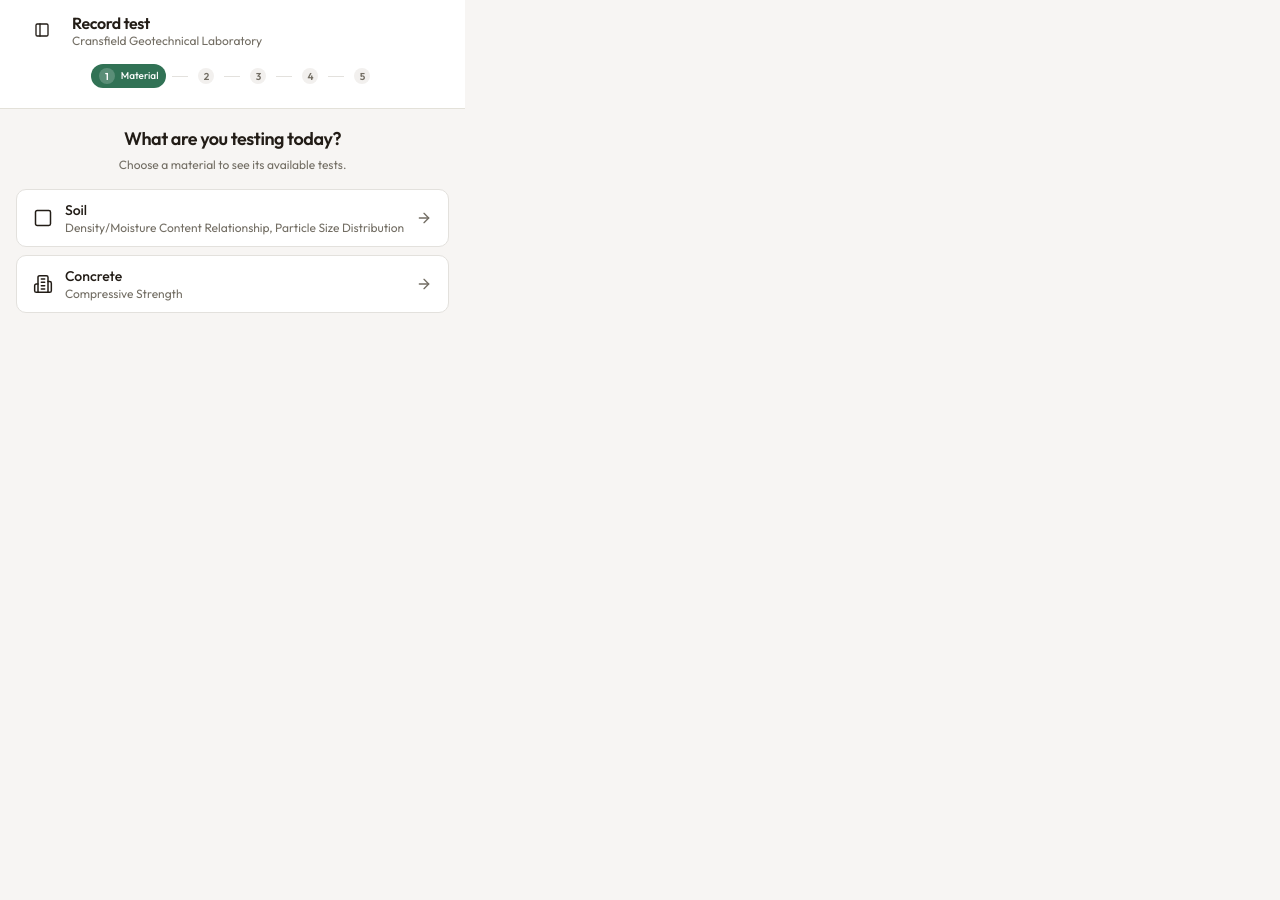
Test case: RecordTestWizard selection flow › shows materials without bottom navigation and opens the selected material's tests
This screenshot has width=1280, height=900.
expect the heading "What are you testing today?" is shown: met, box [124, 127, 341, 150]
Click the button "Soil".
click(233, 218)  # box [16, 189, 449, 247]
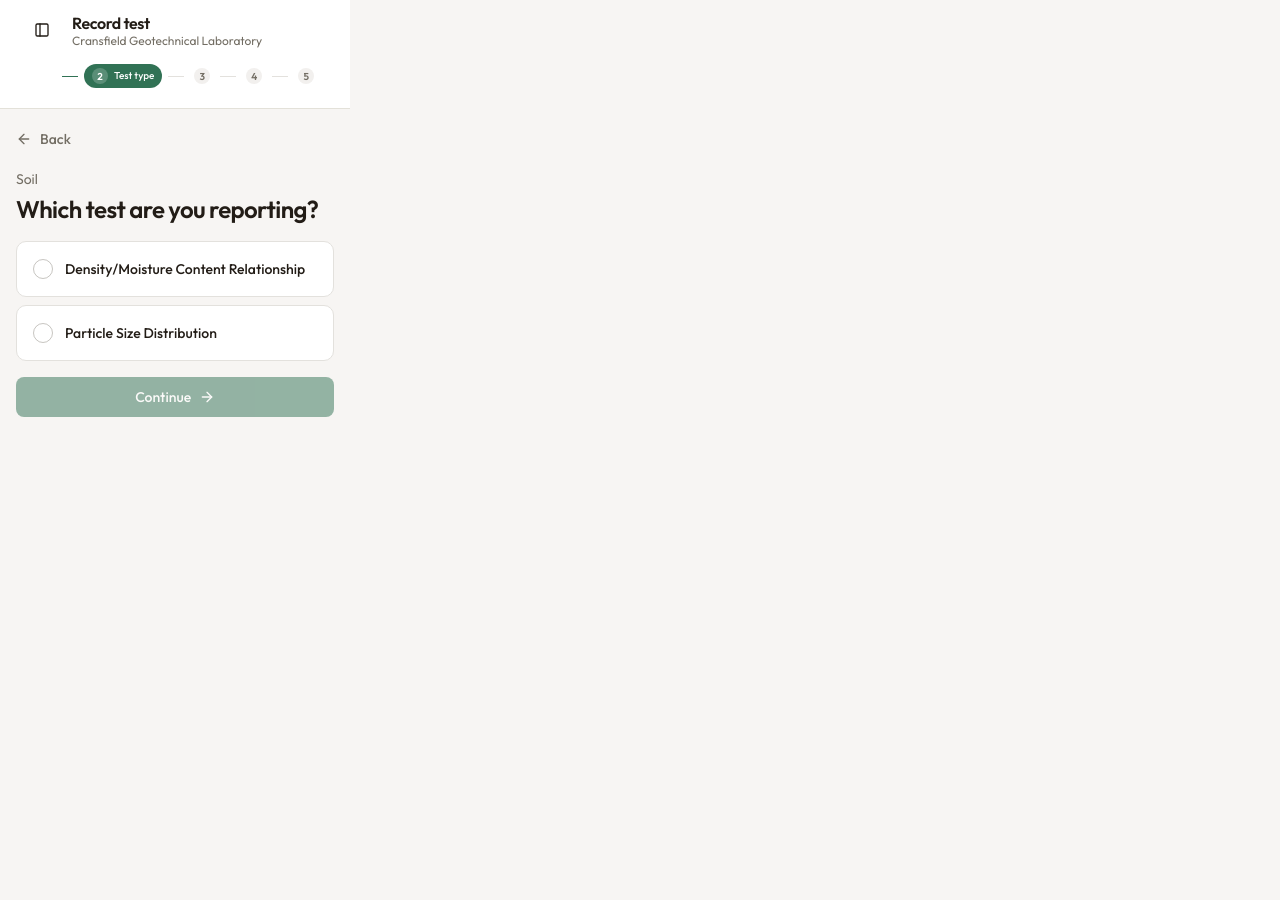
expect the text "Soil" is shown: met, box [16, 170, 38, 188]
expect the heading "Which test are you reporting?" is shown: met, box [16, 193, 334, 225]
Click the button "Back".
click(43, 139)  # box [8, 125, 79, 153]
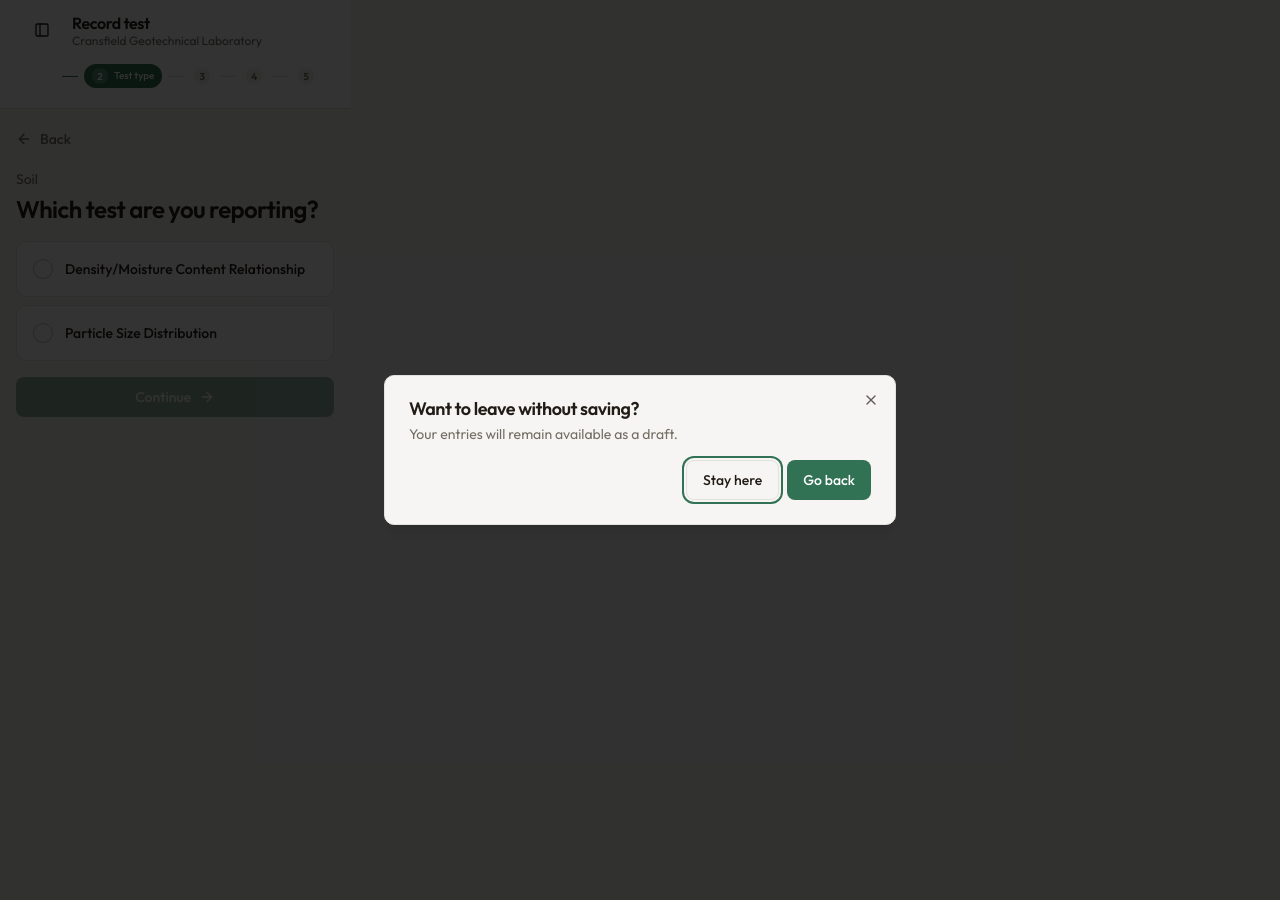
expect the dialog shows "Want to leave without saving?": met, box [409, 397, 639, 420]
Click the button "Go back".
click(829, 480)  # box [787, 460, 871, 500]
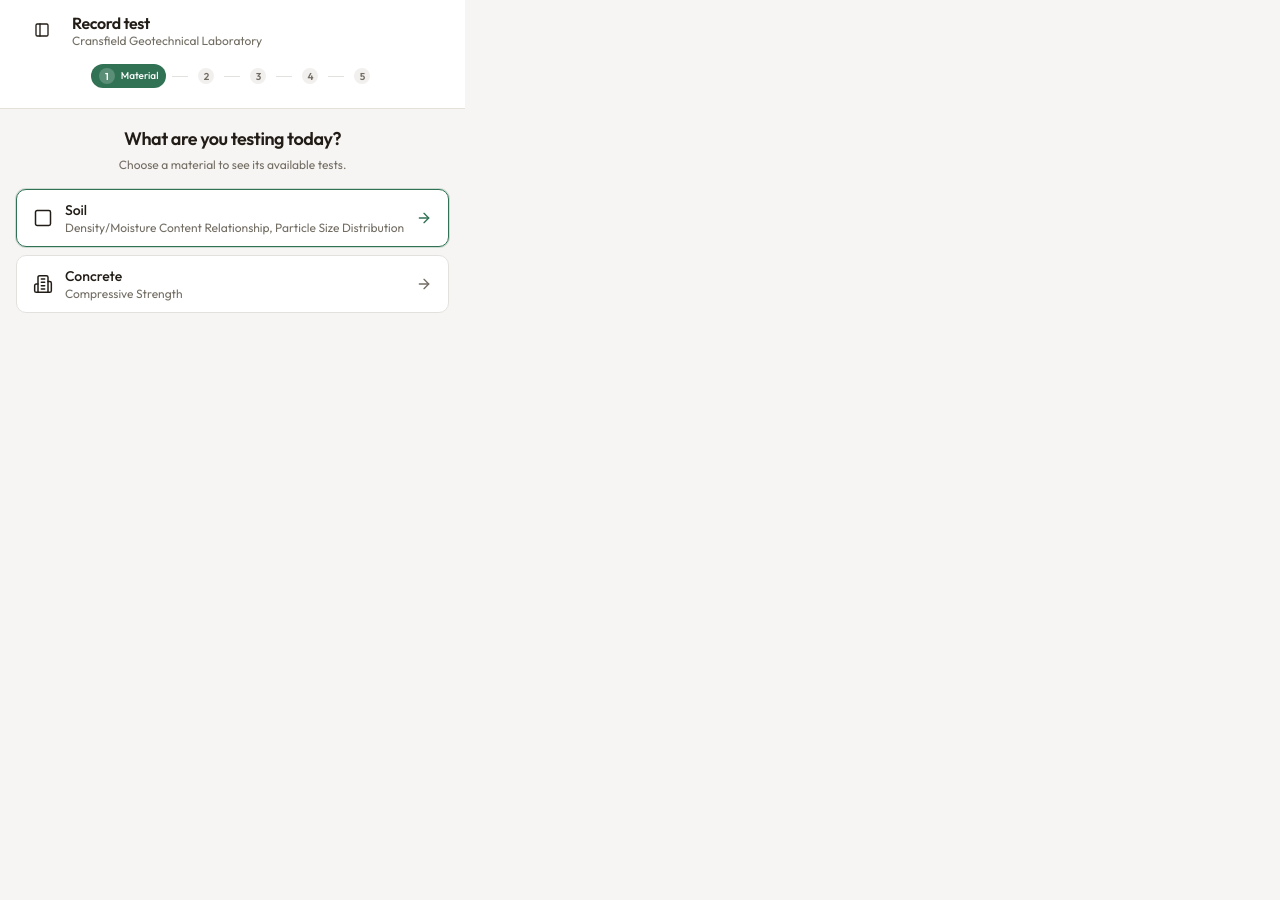
expect the heading "What are you testing today?" is shown: met, box [124, 127, 341, 150]
